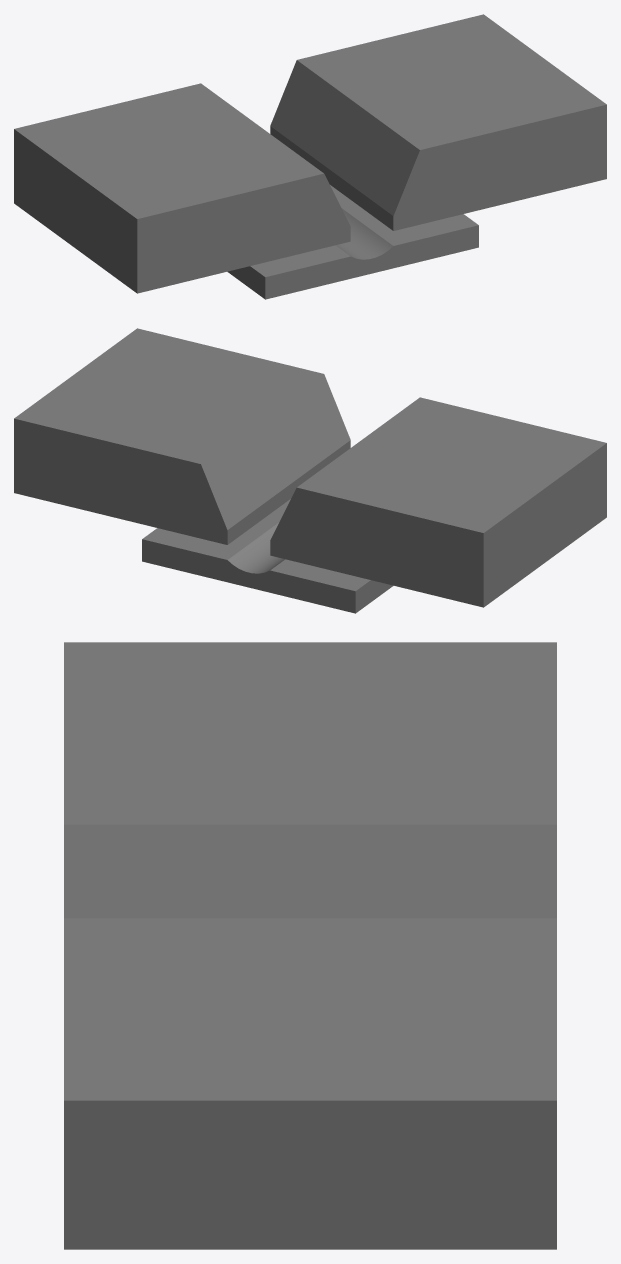
File: С18_Кромки.glb
3 views of the same model, one above another, from view 1: azimuth 30°, elevation 25°; view 2: azimuth 150°, elevation 25°; view 3: azimuth 270°, elevation 25° (orthographic). The views are drawn at different scales.
Visible parts, largest first — view 1: node_id3; view 2: node_id3; view 3: node_id3.
Part boxes in pixels (bbox=[...]): node_id3: bbox=[14, 14, 606, 299]; node_id3: bbox=[14, 328, 606, 613]; node_id3: bbox=[64, 642, 556, 1249].
Bounding box in the file's own units: 0.512 × 0.1164 × 0.2327.
Materials: 1 (1 with a texture image).
